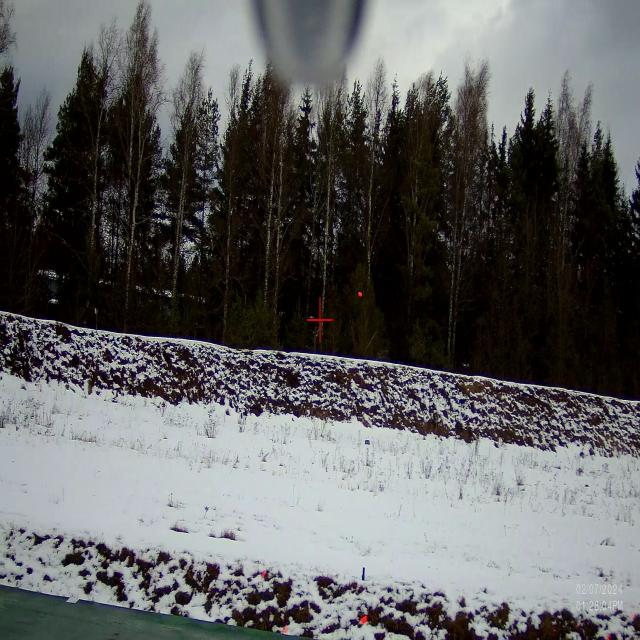entire: (354, 282, 368, 300)
